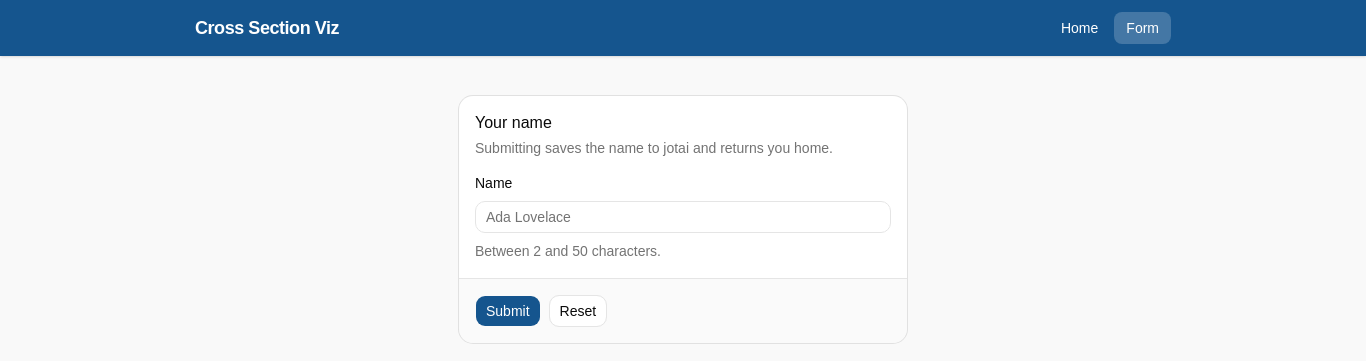
it: App › stores a valid name and shows it on the home page
Step 1. Type "Ada" into the field labelled "Name" → (683, 217), box [475,201,891,233]
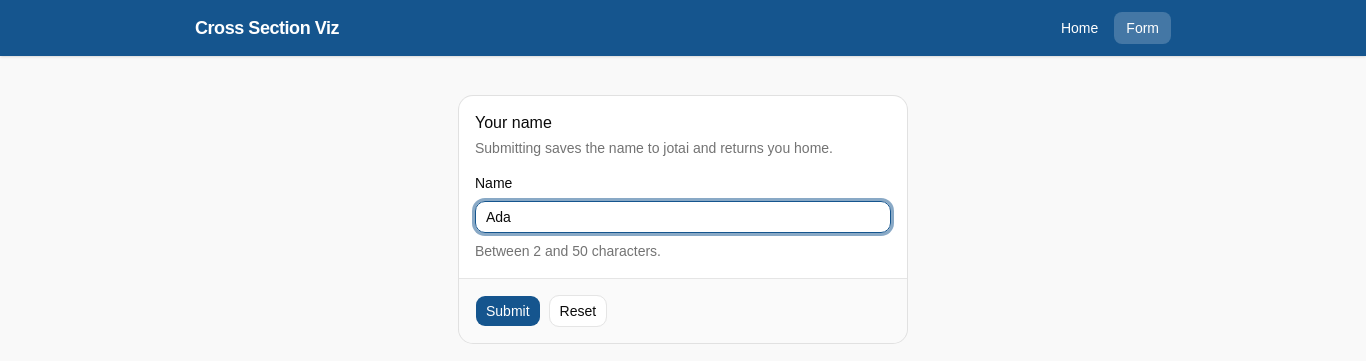
Step 2. Click the button "Submit" → (508, 311), box [475,295,541,327]
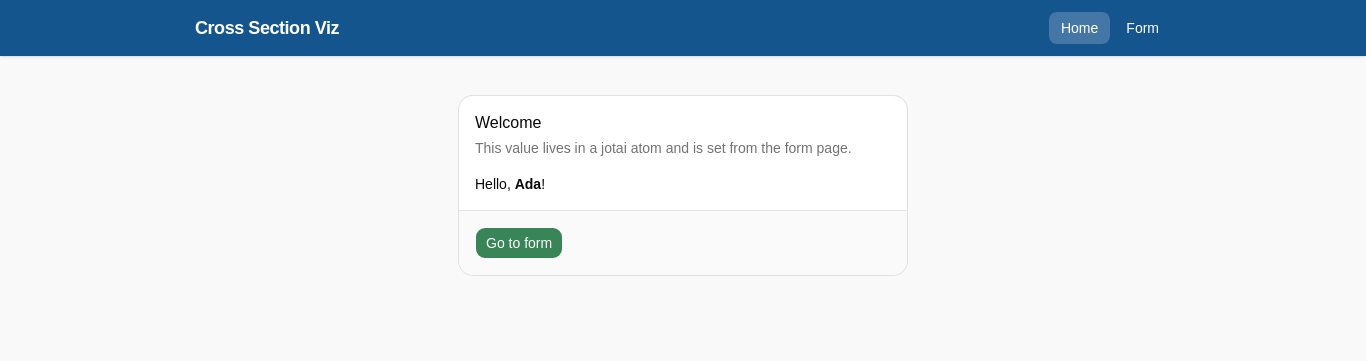
Check: the text "Ada" is shown, box [515,176,541,192]
